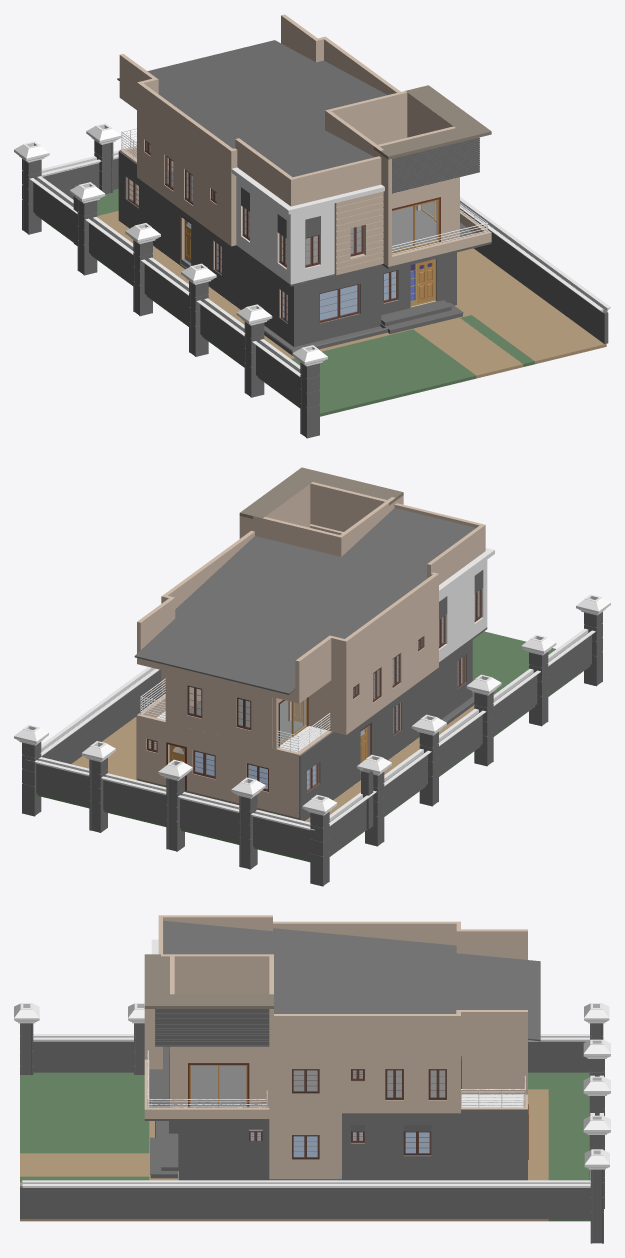
The model's file is Genesis3.glb.
The picture shows the model from 3 angles, top to bottom: view 1: azimuth 30°, elevation 25°; view 2: azimuth 150°, elevation 25°; view 3: azimuth 270°, elevation 25°; orthographic projection. The views are drawn at different scales.
Parts seen in each view (by area): view 1: Wall Walls <324225 new block 230 mm<, FamilyInstance Casework Casework 1 <325590 Casework 1<, FootPrintRoof Roofs <324746 roof 4<, Floor Floors <51959 walkways 4 site<, Floor Floors <63109 grass floor<, FamilyInstance Windows Dbl w Glazing Bars (2) <319490 800<, FamilyInstance Doors M_Single-Decorative 2 <253878 900 x 210, FamilyInstance Casework Casework 18 <343914 Casework 18<, Floor Floors <325042 FLR-LIVING<, Floor Floors <255474 GF<, FamilyInstance Casework Casework 71 <348640 Casework 70<, FamilyInstance Casework Casework 75 <344304 Casework 31< (+11 smaller); view 2: Wall Walls <324225 new block 230 mm<, FootPrintRoof Roofs <324746 roof 4<, FamilyInstance Casework Casework 1 <325590 Casework 1<, FamilyInstance Windows Dbl w Glazing Bars (2) <319490 800<, Floor Floors <63109 grass floor<, Floor Floors <51959 walkways 4 site<, Floor Floors <325042 FLR-LIVING<, FamilyInstance Doors M_Single-Decorative 2 <253878 900 x 210, FamilyInstance Casework Casework 71 <348640 Casework 70<, Floor Floors <255474 GF<, FamilyInstance Casework Casework 19 <344909 Casework 31<, Railing Railings <304118 900mm Pipe< (+20 smaller); view 3: Wall Walls <324225 new block 230 mm<, FootPrintRoof Roofs <324746 roof 4<, FamilyInstance Casework Casework 1 <325590 Casework 1<, Floor Floors <63109 grass floor<, Floor Floors <51959 walkways 4 site<, FamilyInstance Casework Casework 18 <343914 Casework 18<, FamilyInstance Windows Dbl w Glazing Bars (2) <319490 800<, Floor Floors <325042 FLR-LIVING<, FamilyInstance Doors M_Single-Decorative 2 <253878 900 x 210, FamilyInstance Casework Casework 73 <349238 Casework 70<, FamilyInstance Casework Casework 74 <349265 Casework 70<, Railing Railings <304118 900mm Pipe< (+15 smaller).
Part boxes in pixels (x1,y1,x2,y2): Wall Walls <324225 new block 230 mm<: (33, 14, 608, 406); FamilyInstance Casework Casework 1 <325590 Casework 1<: (118, 137, 479, 346); FootPrintRoof Roofs <324746 roof 4<: (117, 40, 387, 177); Floor Floors <51959 walkways 4 site<: (97, 211, 606, 378); Floor Floors <63109 grass floor<: (35, 189, 534, 416); FamilyInstance Windows Dbl w Glazing Bars (2) <319490 800<: (127, 140, 398, 322); FamilyInstance Doors M_Single-Decorative 2 <253878 900 x 210: (180, 197, 440, 306); FamilyInstance Casework Casework 18 <343914 Casework 18<: (168, 171, 491, 285); Floor Floors <325042 FLR-LIVING<: (373, 85, 491, 159); Floor Floors <255474 GF<: (181, 222, 414, 319); FamilyInstance Casework Casework 71 <348640 Casework 70<: (37, 176, 300, 372); FamilyInstance Casework Casework 75 <344304 Casework 31<: (300, 362, 319, 438); Wall Walls <324225 new block 230 mm<: (36, 482, 592, 860); FootPrintRoof Roofs <324746 roof 4<: (134, 508, 475, 694); FamilyInstance Casework Casework 1 <325590 Casework 1<: (136, 548, 494, 821); FamilyInstance Windows Dbl w Glazing Bars (2) <319490 800<: (146, 589, 481, 791); Floor Floors <63109 grass floor<: (37, 631, 590, 862); Floor Floors <51959 walkways 4 site<: (71, 694, 493, 822); Floor Floors <325042 FLR-LIVING<: (239, 467, 403, 518); FamilyInstance Doors M_Single-Decorative 2 <253878 900 x 210: (166, 697, 371, 790); FamilyInstance Casework Casework 71 <348640 Casework 70<: (329, 628, 588, 821); Floor Floors <255474 GF<: (137, 705, 396, 819); FamilyInstance Casework Casework 19 <344909 Casework 31<: (310, 812, 329, 886); Railing Railings <304118 900mm Pipe<: (140, 678, 330, 753); Wall Walls <324225 new block 230 mm<: (20, 915, 590, 1218); FootPrintRoof Roofs <324746 roof 4<: (163, 920, 540, 1041); FamilyInstance Casework Casework 1 <325590 Casework 1<: (151, 939, 527, 1180); Floor Floors <63109 grass floor<: (20, 1072, 590, 1221); Floor Floors <51959 walkways 4 site<: (20, 1089, 548, 1221); FamilyInstance Casework Casework 18 <343914 Casework 18<: (144, 1046, 445, 1120); FamilyInstance Windows Dbl w Glazing Bars (2) <319490 800<: (249, 1069, 446, 1159); Floor Floors <325042 FLR-LIVING<: (144, 954, 273, 1008); FamilyInstance Doors M_Single-Decorative 2 <253878 900 x 210: (169, 1047, 528, 1159); FamilyInstance Casework Casework 73 <349238 Casework 70<: (22, 1180, 590, 1185); FamilyInstance Casework Casework 74 <349265 Casework 70<: (22, 1184, 590, 1187); Railing Railings <304118 900mm Pipe<: (147, 1050, 525, 1108).
Size of the model in its own units: 16.19 by 9.91 by 25.85.
